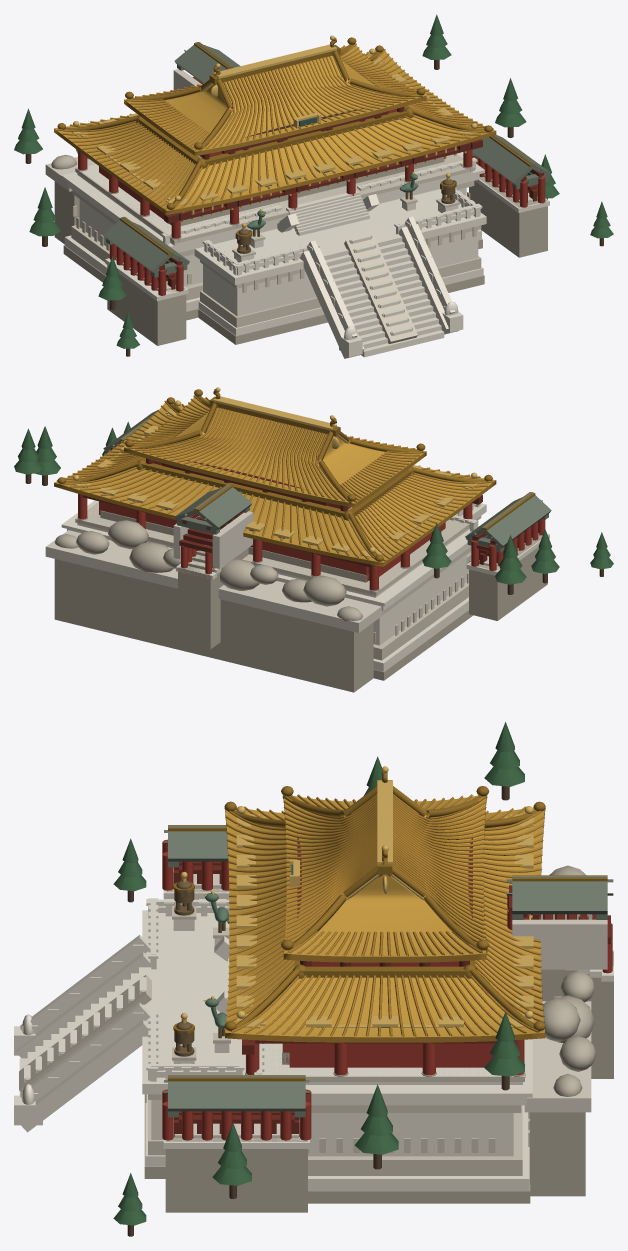
The picture shows the model from 3 angles, top to bottom: view 1: azimuth 30°, elevation 25°; view 2: azimuth 150°, elevation 25°; view 3: azimuth 270°, elevation 25°; orthographic projection. The views are drawn at different scales.
Bounding box in the file's own units: 0.7264 × 0.2857 × 0.5394.
